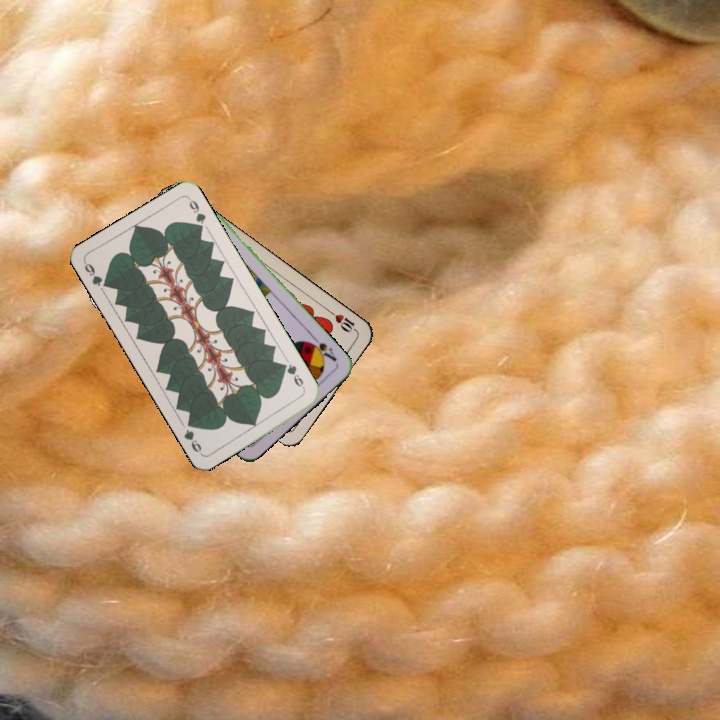G9: (80, 258, 112, 290), (278, 359, 308, 393)
H10: (325, 306, 360, 335)
SA: (304, 332, 339, 364)
